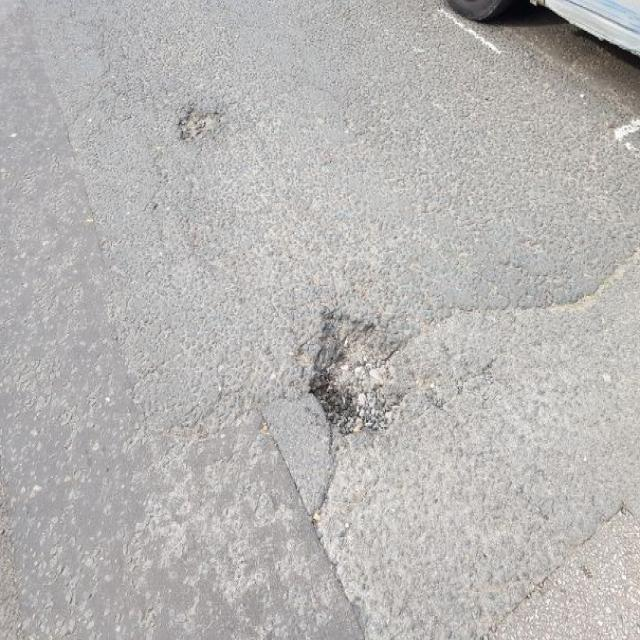pothole: (306, 302, 422, 434), (178, 100, 226, 141)
